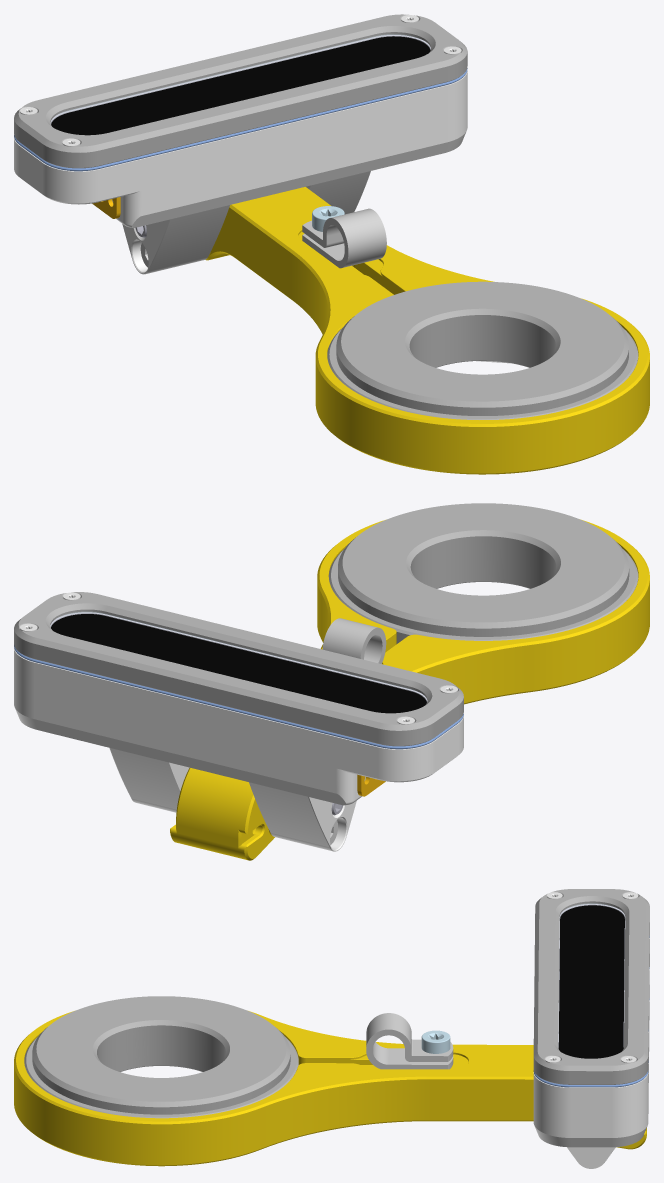
The model's file is onrobot_eyes.dae.
3 renders of one model, top to bottom at view 1: azimuth 30°, elevation 25°; view 2: azimuth 150°, elevation 25°; view 3: azimuth 270°, elevation 25°, orthographic. The views are drawn at different scales.
Parts seen in each view (by area): view 1: MainBody, CameraHousing, MainMount, outerHousing, Screen, Spacer, CameraInsideSpacer.001; view 2: CameraHousing, MainMount, MainBody, outerHousing, Screen, Spacer, CameraInsideSpacer.001; view 3: MainBody, MainMount, outerHousing, Screen, CameraHousing, CameraInsideSpacer.001.
Part boxes in pixels (x1,y1,x2,y2): MainBody: (205, 187, 649, 474); CameraHousing: (14, 69, 467, 274); MainMount: (327, 281, 638, 419); outerHousing: (14, 14, 467, 168); Screen: (51, 36, 430, 135); Spacer: (14, 68, 467, 171); CameraInsideSpacer.001: (50, 35, 430, 123); CameraHousing: (14, 647, 463, 851); MainMount: (328, 503, 638, 643); MainBody: (170, 519, 649, 860); outerHousing: (14, 592, 463, 746); Screen: (51, 614, 426, 713); Spacer: (14, 645, 463, 749); CameraInsideSpacer.001: (50, 612, 427, 701); MainBody: (14, 1011, 646, 1166); MainMount: (24, 996, 298, 1118); outerHousing: (533, 889, 649, 1084); Screen: (558, 905, 624, 1058); CameraHousing: (533, 938, 649, 1168); CameraInsideSpacer.001: (558, 904, 625, 1047).
Bounding box in the file's own units: 0.104 × 0.1552 × 0.042.
